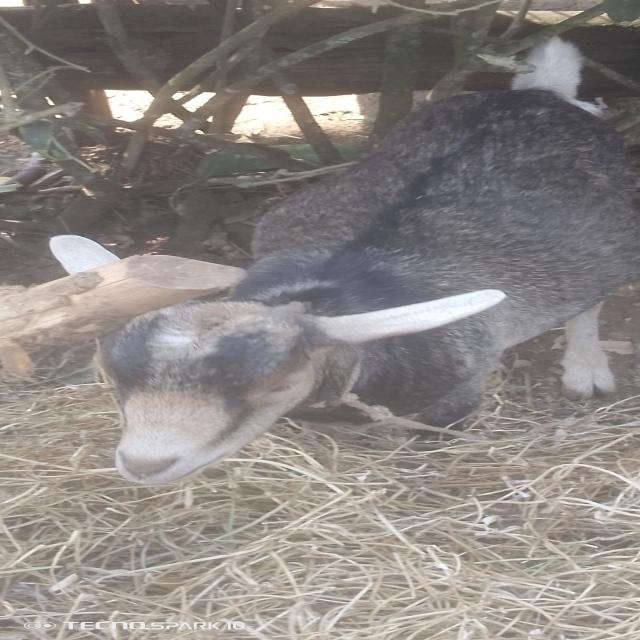goat: (17, 26, 640, 510)
